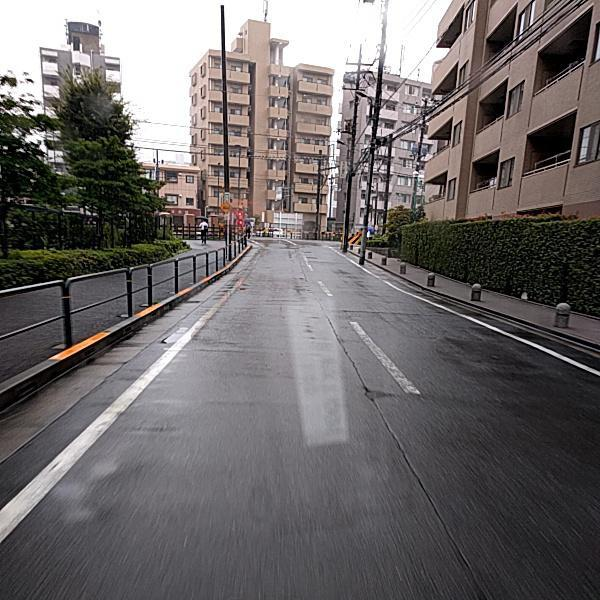D44: (343, 305, 416, 391)
